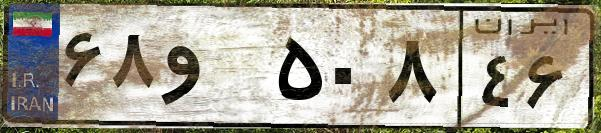0: (330, 28, 385, 110)
4: (475, 38, 525, 113)
5: (270, 28, 330, 110)
6: (57, 26, 110, 100), (525, 38, 570, 115)
8: (385, 28, 445, 110), (110, 28, 158, 98)
و: (158, 20, 270, 120)
